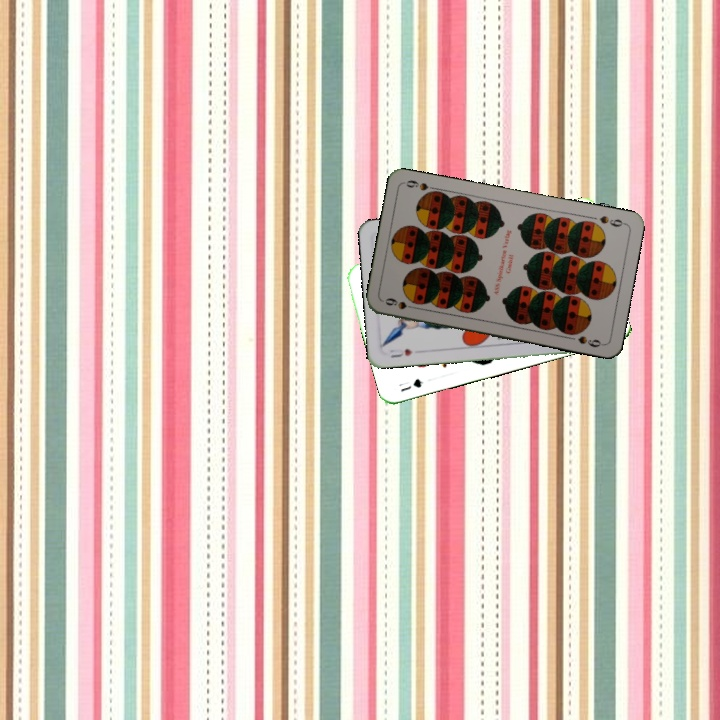GU: (397, 374, 426, 394)
HU: (386, 345, 415, 360)
S9: (381, 294, 421, 312), (595, 212, 628, 229)
